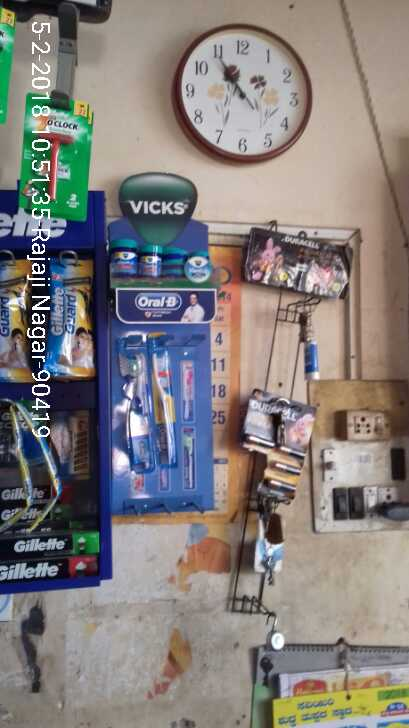beauty: (50, 257, 92, 374)
pharmacy: (117, 329, 154, 470), (148, 332, 178, 470), (137, 242, 165, 282), (112, 237, 138, 278)
